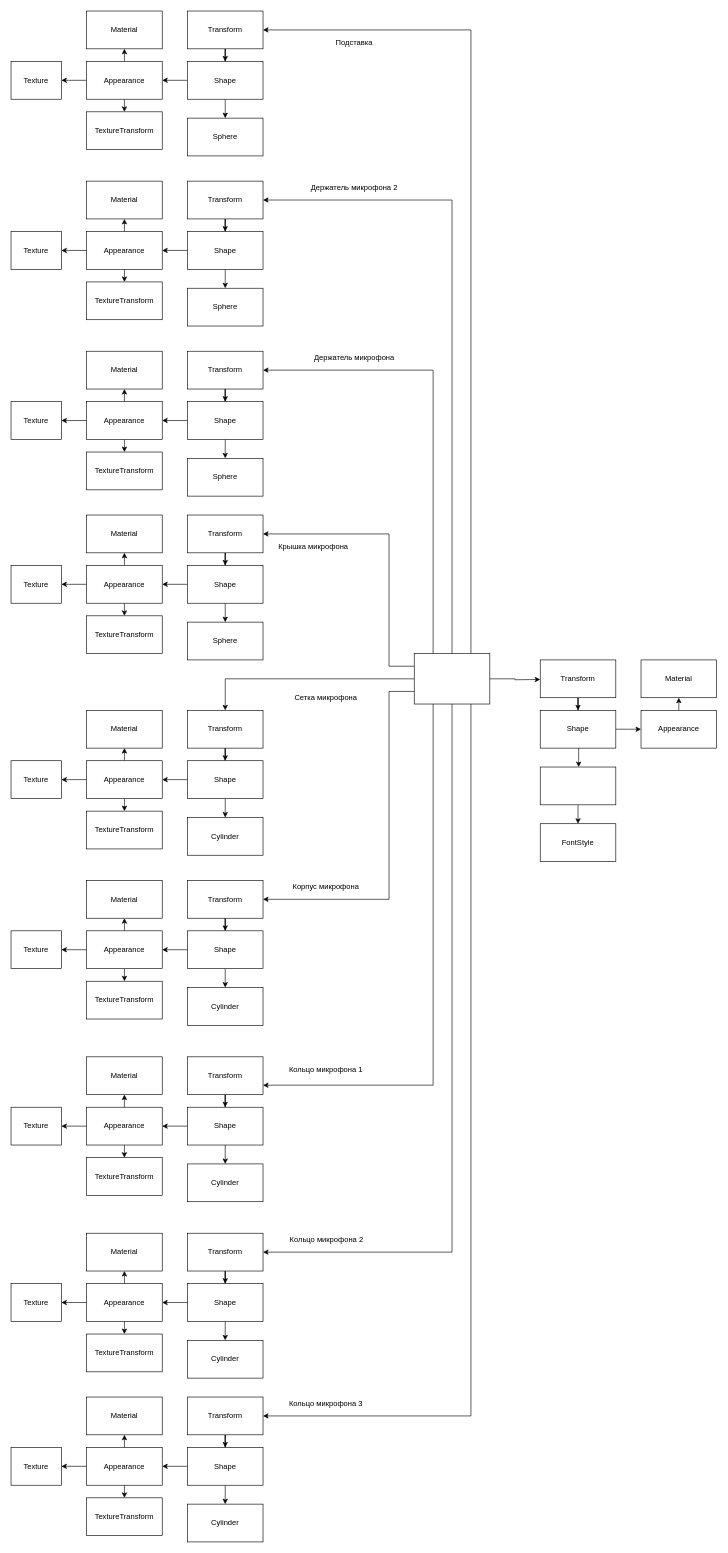
Image size: 728x1553. Some labels were removed from this diagram. Here are the shapes that lost their labels. From the top down, the centre of each, then its label:
(452,678): Scene
(578,785): Text
